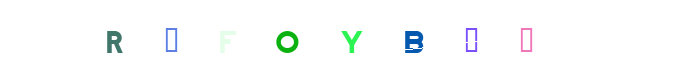3: (247, 0, 327, 80), (373, 0, 453, 80)
4: (486, 0, 566, 80)
B: (303, 0, 383, 80)
F: (253, 0, 333, 80)
O: (283, 0, 363, 80)
R: (73, 0, 153, 80)
Y: (300, 0, 380, 80)
